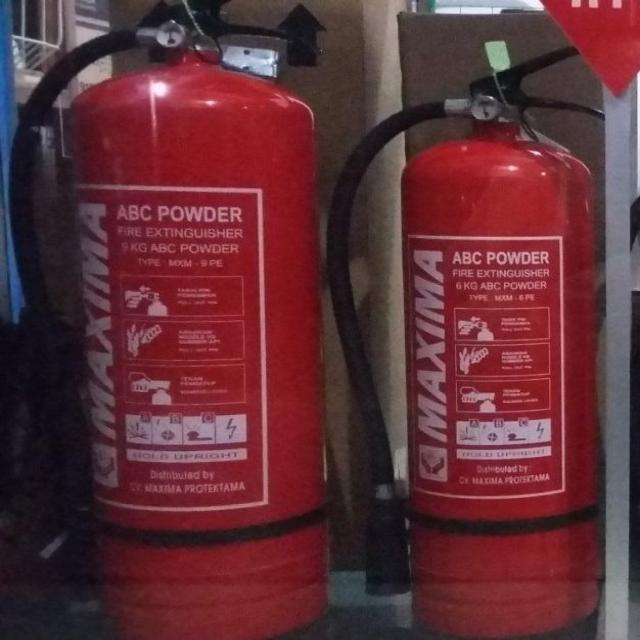fire_extinguisher: (0, 0, 338, 639), (315, 38, 639, 639)
